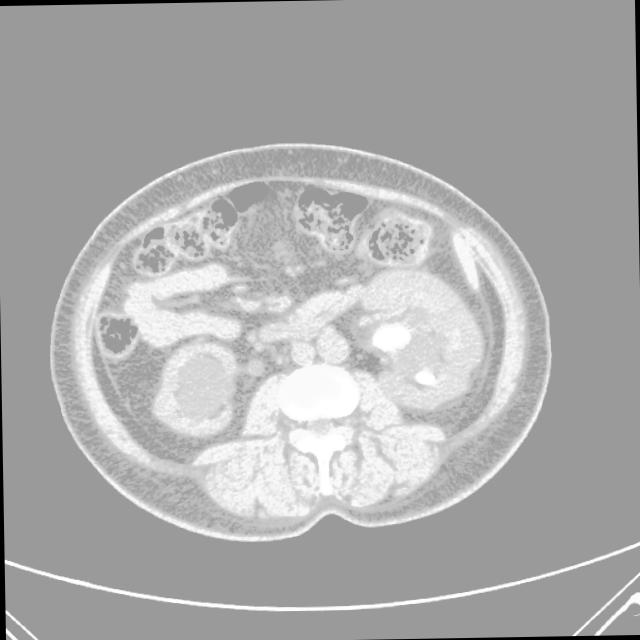STONE: (63, 134, 467, 422)
